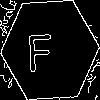F: (25, 25, 55, 72)
